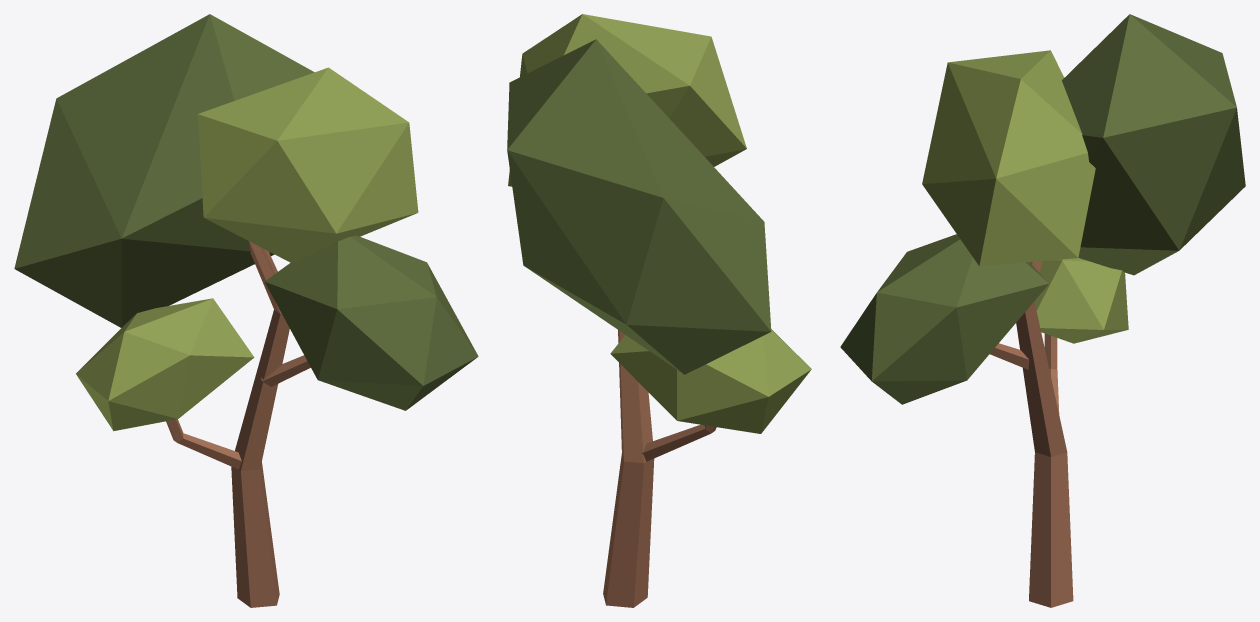
File: Tree.gltf
3 renders of one model, left to right at view 1: azimuth 30°, elevation 25°; view 2: azimuth 150°, elevation 25°; view 3: azimuth 270°, elevation 25°, orthographic. The views are drawn at different scales.
Visible parts, largest first — view 1: tree01; view 2: tree01; view 3: tree01.
Boxes of the visible parts, left/top/right/bottom form: tree01: left=14, top=14, right=478, bottom=607; tree01: left=507, top=14, right=811, bottom=607; tree01: left=840, top=14, right=1245, bottom=607.
Size of the model in its own units: 308 by 509 by 324.
1 material, 1 textured.
